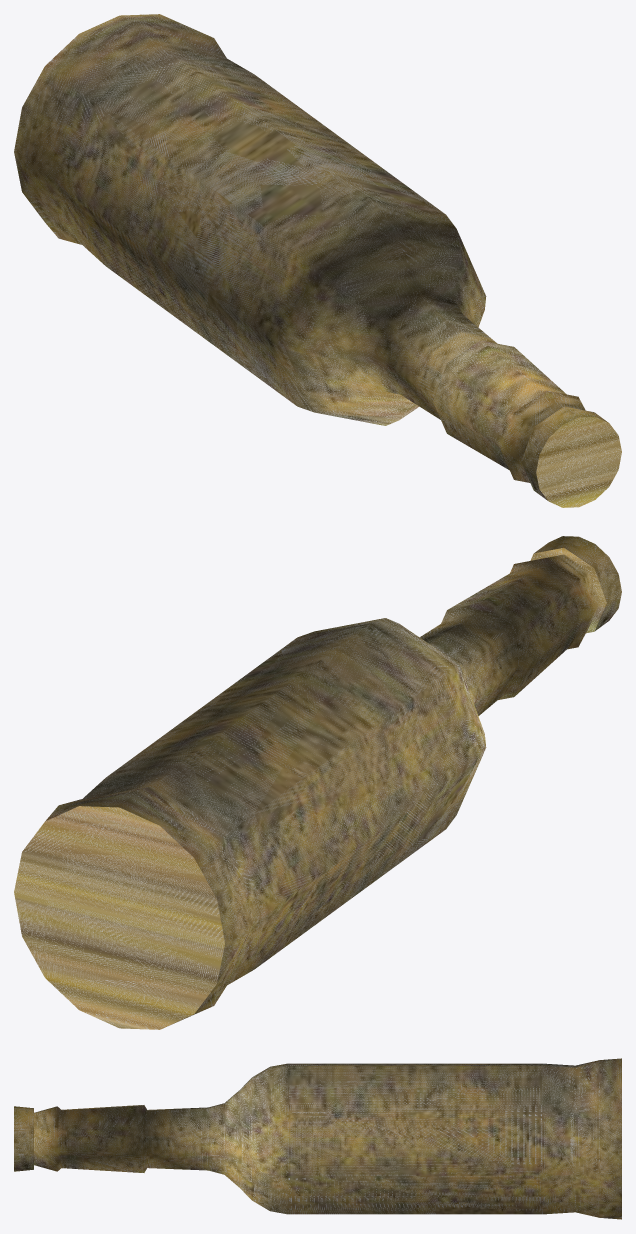
The model's file is model_scale.obj.
The picture shows the model from 3 angles, top to bottom: view 1: azimuth 30°, elevation 25°; view 2: azimuth 150°, elevation 25°; view 3: azimuth 270°, elevation 25°; orthographic projection. The views are drawn at different scales.
Visible parts, largest first — view 1: mesh1_mesh1-geometry; view 2: mesh1_mesh1-geometry; view 3: mesh1_mesh1-geometry.
Boxes of the visible parts, bbox=[...] form: mesh1_mesh1-geometry: bbox=[14, 14, 621, 507]; mesh1_mesh1-geometry: bbox=[14, 536, 621, 1029]; mesh1_mesh1-geometry: bbox=[14, 1058, 621, 1219].
Size of the model in its own units: 0.0428 by 0.0428 by 0.155.
